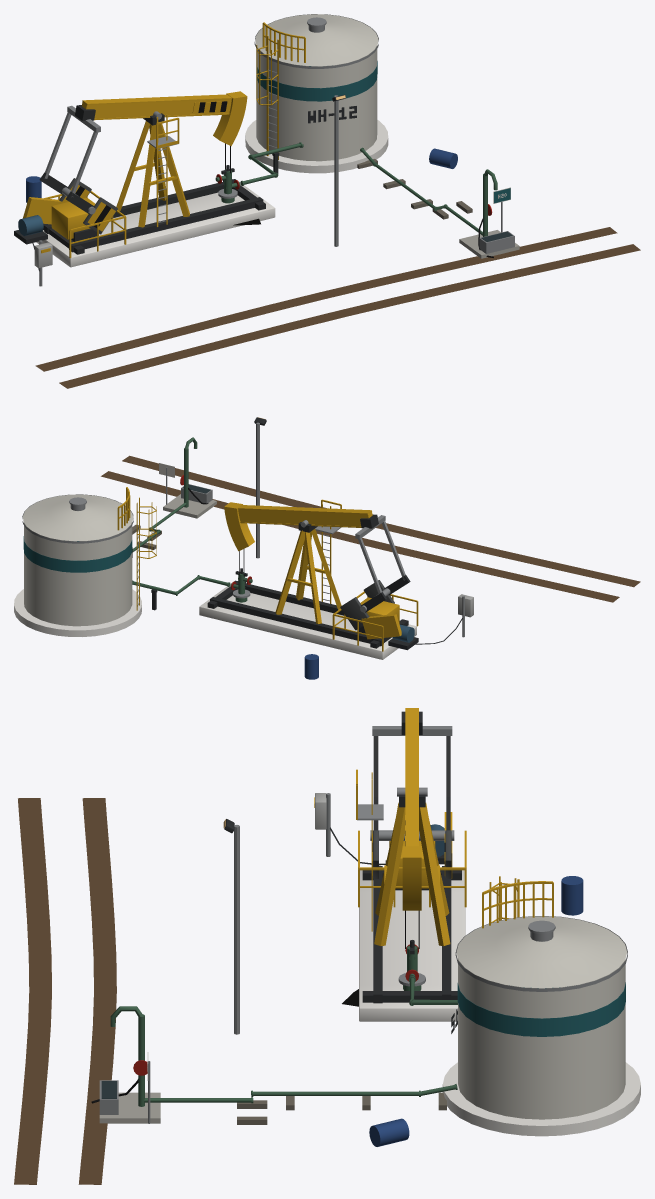
The model's file is wellhead.glb.
3 views of the same model, one above another, from view 1: azimuth 30°, elevation 25°; view 2: azimuth 150°, elevation 25°; view 3: azimuth 270°, elevation 25° (orthographic). The views are drawn at different scales.
Parts seen in each view (by area): view 1: C0_0_lod0, C-1_0_lod0, C0_-1_lod0, C-1_-1_lod0; view 2: C0_0_lod0, C-1_0_lod0, C0_-1_lod0, C-1_-1_lod0; view 3: C0_0_lod0, C-1_0_lod0, C0_-1_lod0, C-1_-1_lod0.
Part boxes in pixels (box(x1,y1,x2,y2)): C0_0_lod0: box(35, 14, 640, 388); C-1_0_lod0: box(14, 91, 275, 270); C0_-1_lod0: box(332, 94, 519, 258); C-1_-1_lod0: box(34, 117, 179, 286); C0_0_lod0: box(14, 455, 640, 636); C-1_0_lod0: box(199, 502, 462, 679); C0_-1_lod0: box(132, 417, 266, 558); C-1_-1_lod0: box(321, 499, 473, 637); C0_0_lod0: box(14, 798, 640, 1184); C-1_0_lod0: box(330, 708, 583, 1021); C0_-1_lod0: box(91, 819, 455, 1124); C-1_-1_lod0: box(314, 769, 359, 907).
Size of what is drawn, in the model's own units: 24.02 by 6.12 by 16.45.
